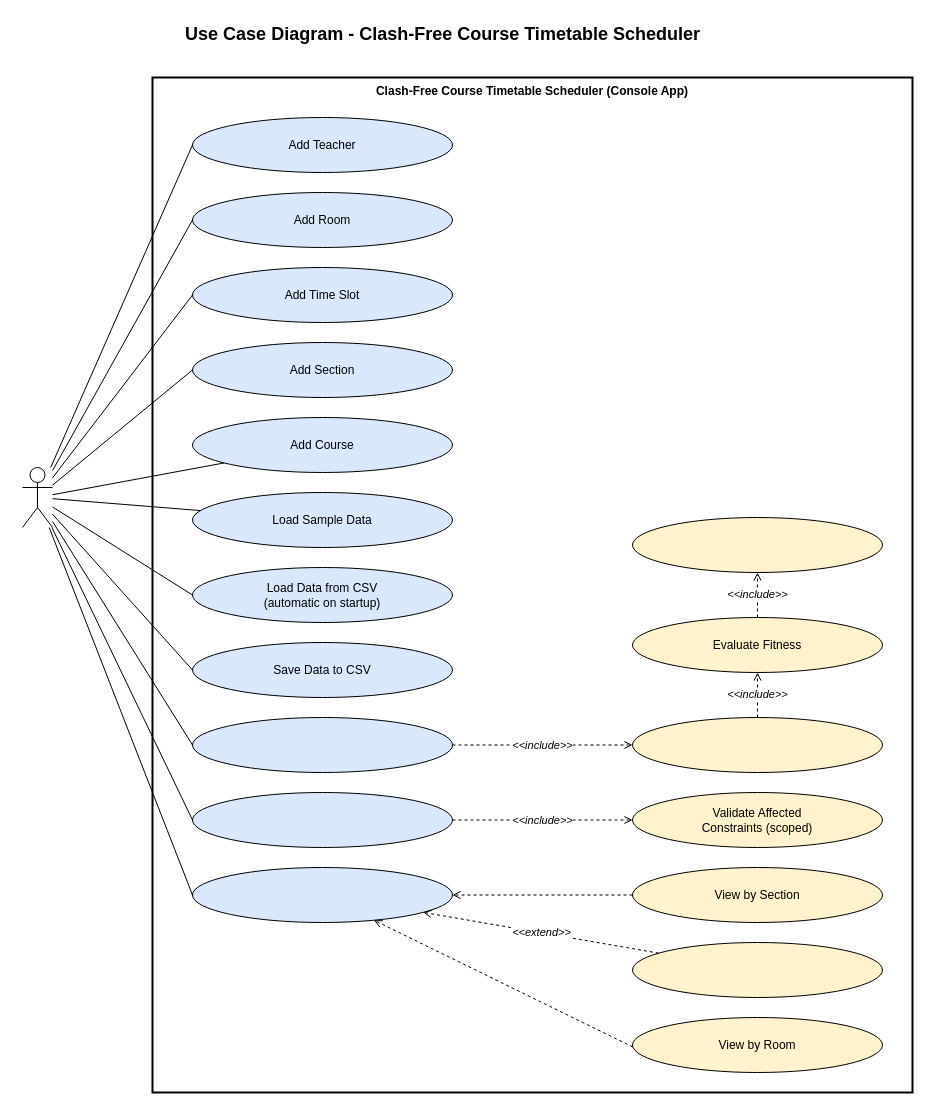
This 931x1110 diagram has some shape labels left out. The box of each missing label's shape, as (x1, y1, x2, y2) in pixels:
Admin: (22, 466, 52, 528)
Generate Timetable: (192, 716, 452, 772)
Manually Override a Slot: (192, 792, 452, 848)
Run Genetic Algorithm: (632, 716, 882, 772)
Validate Conflicts: (632, 516, 882, 572)
View by Teacher: (632, 942, 882, 998)
View Timetable: (192, 866, 452, 922)
